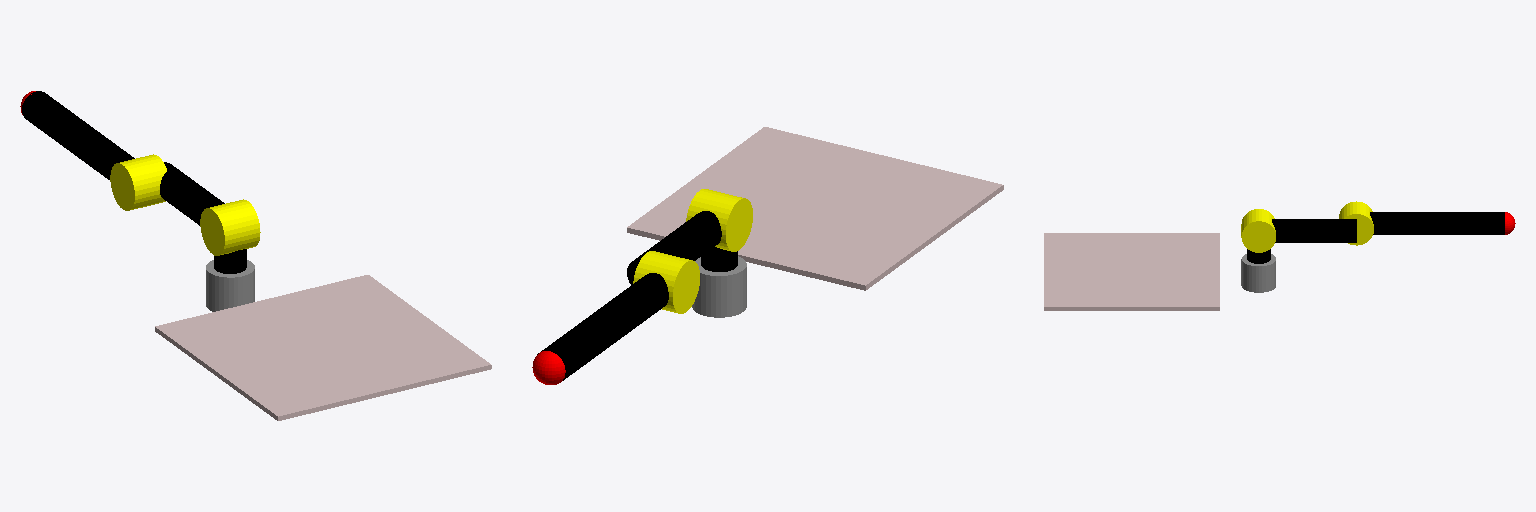
URDF robot description (threeDOF):
<?xml version="1.0"?>

<robot name="threeDOF">
  
  <!-- *************************************************** -->
  <!-- ******************** Kinematics ******************* -->
  <!-- *************************************************** -->
  <!-- Note the 'origin' tag in the joints defines the
       shift and reorientation before the continuous joint
       rotates around the 'axis'. -->

  <link name="world"/>

  <joint name="Thor/1" type="continuous">
    <parent link="world"/>
    <child  link="link1"/>
    <origin xyz="-0.005 0.217 0" rpy="0 0 0"/>
    <axis   xyz="0 0 1"/>
  </joint>

  <link name="link1"/>

  <joint name="Thor/2" type="continuous">
    <parent link="link1"/>
    <child  link="link2"/>
    <origin xyz="0 0 .078" rpy="0 0 0"/>
    <axis   xyz="1 0 0"/>
  </joint>

  <link name="link2"/>

  <joint name="Thor/3" type="continuous">
    <parent link="link2"/>
    <child  link="link3"/>
    <origin xyz="-.03 .167 0" rpy="0 0 0"/>
    <axis   xyz="-1 0 0"/>
  </joint>

  <link name="link3"/>

  <joint name="shifttotip" type="fixed">
    <parent link="link3"/>
    <child  link="tip"/>
    <origin xyz="0 .252 0" rpy="0 0 0"/>
  </joint>

  <link name="tip"/>


  <!-- *************************************************** -->
  <!-- ********************* Graphics ******************** -->
  <!-- *************************************************** -->
  <!-- The following is purely to make this look roboticy. -->
  <!-- The 'origin' tag in the link/visual defines the
       center of the object (box, cylinder, sphere, mesh)
       but does not affect the joint chain kinematics. -->

  <!-- *************** Materials / Colors **************** -->

  <material name="white">    <color rgba="1.00 1.00 1.00 1"/>  </material>
  <material name="gray">     <color rgba="0.60 0.60 0.60 1"/>  </material>
  <material name="table">    <color rgba="0.85 0.77 0.77 1"/>  </material>
  <material name="black">    <color rgba="0.00 0.00 0.00 1"/>  </material>

  <material name="red">      <color rgba="1.00 0.00 0.00 1"/>  </material>
  <material name="green">    <color rgba="0.00 1.00 0.00 1"/>  </material>
  <material name="blue">     <color rgba="0.00 0.00 1.00 1"/>  </material>

  <material name="cyan">     <color rgba="0.00 1.00 1.00 1"/>  </material>
  <material name="magenta">  <color rgba="1.00 0.00 1.00 1"/>  </material>
  <material name="yellow">   <color rgba="1.00 1.00 0.00 1"/>  </material>

  <material name="orange">   <color rgba="1.00 0.65 0.00 1"/>  </material>


  <!-- *** Table - attached to world *** -->

  <joint name="attach-table" type="fixed">
    <parent link="world"/>
    <child  link="table"/>
  </joint>

  <link name="table">
    <visual>
      <origin xyz="0 0 .003175" rpy="0 0 0"/>
      <geometry>
	<box size=".3 .3 0.00635"/>
      </geometry>
      <material name="table"/>
    </visual>
  </link>

  <!-- *** Yaw Motor - attached to link 1 *** -->

  <joint name="attach-yawmotor" type="fixed">
    <parent link="link1"/>
    <child  link="yawmotor"/>
  </joint>

  <link name="yawmotor">
    <visual>
      <origin xyz="0 0 0" rpy="0 0 0"/>
      <geometry>
	<cylinder length="0.05" radius="0.03"/>
      </geometry>
      <material name="gray"/>
    </visual>
  </link>

  <!-- *** Link 1 Bar - attached to link1 (yaw joint output) *** -->

  <joint name="attach-link1bar" type="fixed">
    <parent link="link1"/>
    <child  link="link1bar"/>
  </joint>

  <link name="link1bar">
    <visual>
      <origin xyz="0 0 .045" rpy="0 0 0"/>
      <geometry>
	<cylinder length=".09" radius="0.02"/>
      </geometry>
      <material name="black"/>
    </visual>
  </link>

  <!-- *** Pitch 1 Motor - attached to link2 (yaw joint output) *** -->

  <joint name="attach-pitch1motor" type="fixed">
    <parent link="link2"/>
    <child  link="pitch1motor"/>
  </joint>

  <link name="pitch1motor">
    <visual>
      <origin xyz="0 0 0" rpy="0 1.5708 0"/>
      <geometry>
	<cylinder length="0.05" radius="0.03"/>
      </geometry>
      <material name="yellow"/>
    </visual>
  </link>

  <!-- *** Link 2 Bar - attached to link2 (pitch1 joint output) *** -->

  <joint name="attach-link2bar" type="fixed">
    <parent link="link2"/>
    <child  link="link2bar"/>
  </joint>

  <link name="link2bar">
    <visual>
      <origin xyz="0 .0835 0" rpy="-1.5708 0 0"/>
      <geometry>
	<cylinder length=".167" radius="0.02"/>
      </geometry>
      <material name="black"/>
    </visual>
  </link>

  <!-- *** Pitch 2 Motor - attached to link3 -->

  <joint name="attach-pitch2motor" type="fixed">
    <parent link="link3"/>
    <child  link="pitch2motor"/>
  </joint>

  <link name="pitch2motor">
    <visual>
      <origin xyz="0 0 0" rpy="0 1.5708 0"/>
      <geometry>
	<cylinder length="0.05" radius="0.03"/>
      </geometry>
      <material name="yellow"/>
    </visual>
  </link>

  <!-- *** Link 3 Bar - attached to link3 (pitch2 joint output) *** -->

  <joint name="attach-link3bar" type="fixed">
    <parent link="link3"/>
    <child  link="link3bar"/>
  </joint>

  <link name="link3bar">
    <visual>
      <origin xyz="0 .127 0" rpy="-1.5708 0 0"/>
      <geometry>
	<cylinder length=".254" radius="0.02"/>
      </geometry>
      <material name="black"/>
    </visual>
  </link>

  <!-- *** Link 3 Sail - attached to link3 (pitch2 joint output) *** -->

  <!-- *** Tip Ball - attached to tip *** -->

  <joint name="attach-tipball" type="fixed">
    <parent link="tip"/>
    <child  link="tipball"/>
  </joint>

  <link name="tipball">
    <visual>
      <origin xyz="0 0 0" rpy="0 0 0"/>
      <geometry>
      	<sphere radius="0.02"/>
      </geometry>
      <material name="red"/>
    </visual>
  </link>

</robot>

--- Facts derived from the render (not from the file) ---
The picture shows the robot from 3 angles, left to right: view 1: azimuth 30°, elevation 25°; view 2: azimuth 150°, elevation 25°; view 3: azimuth 270°, elevation 25°; orthographic projection.
Model threeDOF with 13 links and 12 joints (3 continuous, 9 fixed), rooted at world, posed every joint at zero.
Links seen in each view (by area): view 1: table, link3bar, pitch1motor, pitch2motor, yawmotor, link2bar, link1bar; view 2: table, link3bar, yawmotor, pitch1motor, pitch2motor, link2bar, tipball, link1bar; view 3: table, link3bar, link2bar, pitch1motor, yawmotor, pitch2motor.
Boxes of the visible links, box(x1,y1,x2,y2) form: table: box(155, 275, 491, 420); link3bar: box(22, 91, 134, 179); pitch1motor: box(200, 199, 260, 255); pitch2motor: box(110, 154, 166, 210); yawmotor: box(206, 260, 254, 311); link2bar: box(160, 162, 224, 225); link1bar: box(214, 249, 246, 273); table: box(627, 127, 1003, 290); link3bar: box(537, 273, 668, 380); yawmotor: box(692, 256, 746, 317); pitch1motor: box(686, 189, 752, 251); pitch2motor: box(633, 251, 699, 313); link2bar: box(627, 211, 721, 284); tipball: box(532, 351, 565, 384); link1bar: box(701, 247, 737, 271); table: box(1044, 233, 1219, 310); link3bar: box(1370, 212, 1504, 234); link2bar: box(1272, 219, 1356, 242); pitch1motor: box(1241, 209, 1275, 252); yawmotor: box(1241, 254, 1275, 292); pitch2motor: box(1339, 201, 1373, 245).
Bounding box of the posed robot: 0.3 × 0.806 × 0.133 m (x, y, z).
Geometry: primitives only (box / cylinder / sphere), no mesh files.
